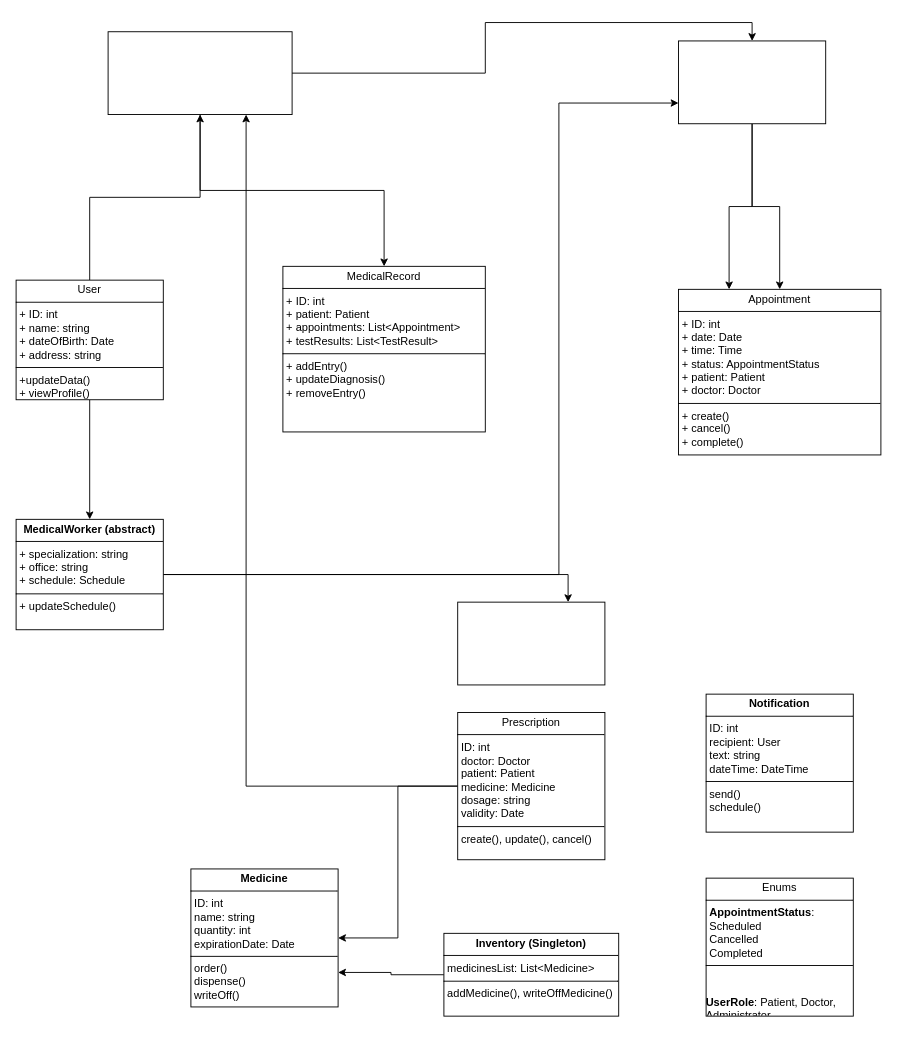
The diagram is 897 pixels wide and 1037 high, and some of its shapes have lost their labels. The box of each missing label's shape, as (x1, y1, x2, y2) in pixels:
Doctor Inherits: MedicalWorker + prescribeTreatment() + issuePrescription(): (678, 40, 826, 124)
Nurse Inherits: MedicalWorker: (457, 601, 605, 685)
Patient + medicalHistory: MedicalRecord + bookAppointment() + viewHistory(): (107, 31, 292, 115)
